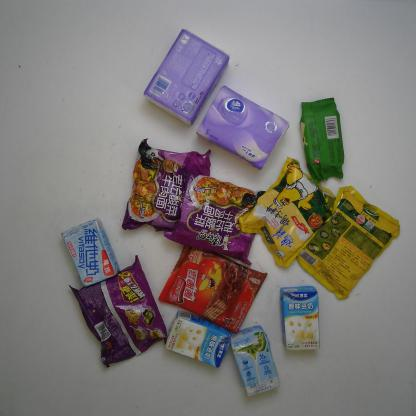Dessert: (157, 245, 268, 334), (298, 96, 346, 184)
Instant Noodles: (68, 256, 170, 372), (162, 165, 266, 269), (121, 138, 212, 240)
Milk: (61, 218, 118, 287), (229, 324, 281, 397), (165, 311, 230, 367), (280, 286, 322, 352)
Seasoner: (295, 184, 401, 300), (237, 154, 338, 268)
Tissue: (142, 28, 230, 126), (196, 85, 292, 169)
